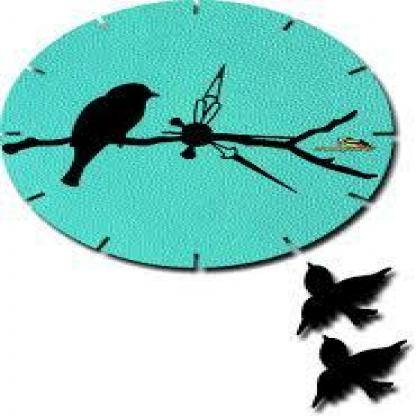bird: (44, 74, 177, 180)
